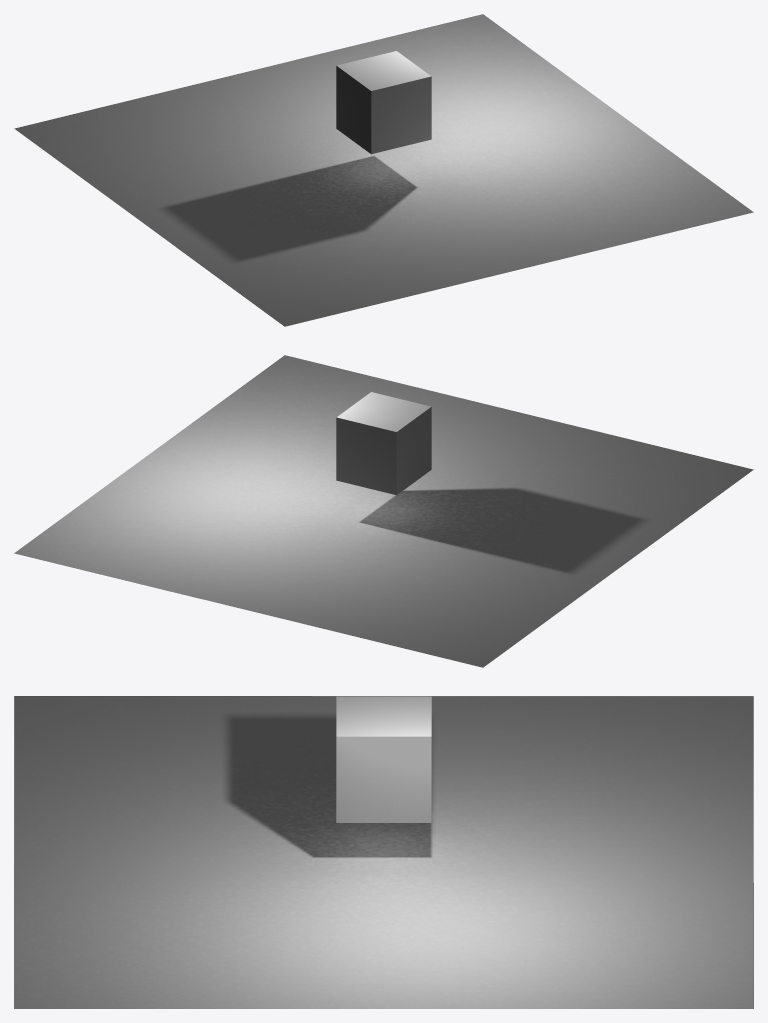
Rendered from lightmap.obj.
The picture shows the model from 3 angles, top to bottom: view 1: azimuth 30°, elevation 25°; view 2: azimuth 150°, elevation 25°; view 3: azimuth 270°, elevation 25°; orthographic projection. The views are drawn at different scales.
Visible parts, largest first — view 1: Cube; view 2: Cube; view 3: Cube.
Boxes of the visible parts, x1,y1,x2,y2 form: Cube: (14,14,753,326); Cube: (14,355,753,667); Cube: (14,696,753,1008).
Size of the model in its own units: 15.55 by 3.15 by 15.55.
Materials: 1 (1 with a texture image).
